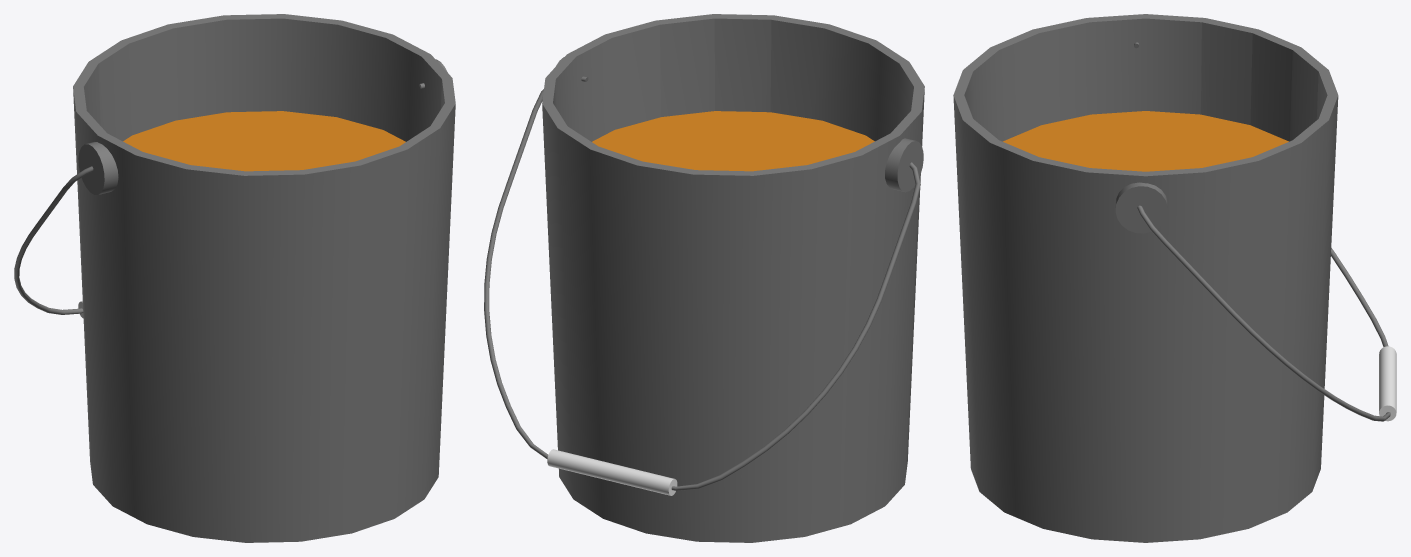
The model's file is PaintBucket.fbx.
The picture shows the model from 3 angles, left to right: view 1: azimuth 30°, elevation 25°; view 2: azimuth 150°, elevation 25°; view 3: azimuth 270°, elevation 25°; orthographic projection.
Parts seen in each view (by area): view 1: Bucket, Paint, pCylinder5, pCylinder7; view 2: Bucket, Paint, pCylinder7, Handle, pCylinder6, pCylinder5; view 3: Bucket, Paint, pCylinder4, pCylinder6, Handle, pCylinder7.
Boxes of the visible parts, x1,y1,x2,y2 form: Bucket: (73,14,455,542); Paint: (123,111,405,171); pCylinder5: (78,142,118,194); pCylinder7: (14,166,93,314); Bucket: (542,14,924,542); Paint: (592,111,874,171); pCylinder7: (671,162,920,490); Handle: (547,449,677,495); pCylinder6: (484,76,588,458); pCylinder5: (885,138,923,192); Bucket: (953,14,1338,542); Paint: (1003,111,1288,171); pCylinder4: (1115,182,1167,233); pCylinder6: (1137,205,1390,421); Handle: (1379,346,1396,421); pCylinder7: (1134,42,1388,346).
Bounding box in the file's own units: 5.05 × 4.71 × 5.06.
